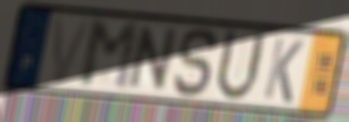K: (261, 35, 307, 107)
M: (78, 19, 142, 93)
N: (125, 23, 182, 93)
S: (171, 26, 221, 100)
U: (212, 26, 269, 105)
V: (51, 13, 95, 87)
